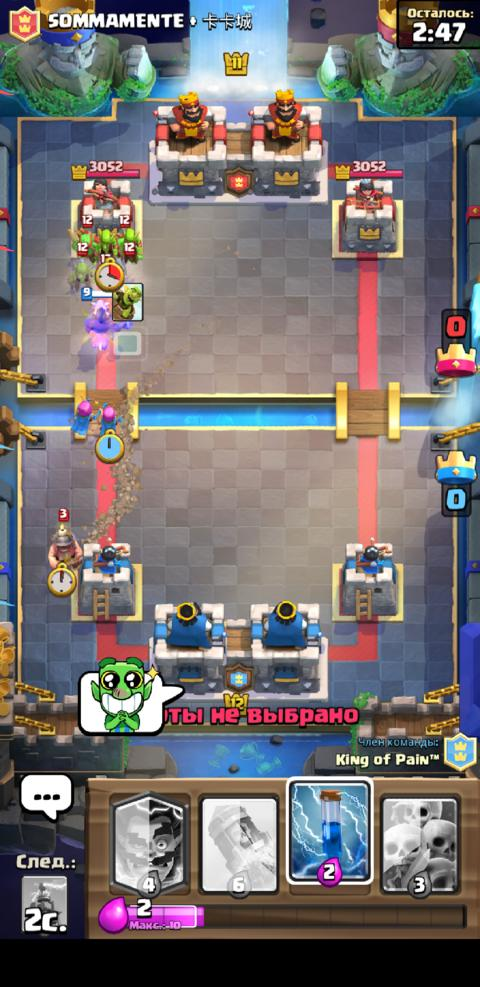ally_archer: (70, 392, 99, 435), (95, 400, 122, 435)
ally_hog_rider: (79, 285, 133, 351)
enemy_goblin: (116, 213, 144, 260), (65, 261, 97, 299)
enemy_spear_goblin: (66, 213, 99, 260), (94, 226, 118, 259)
